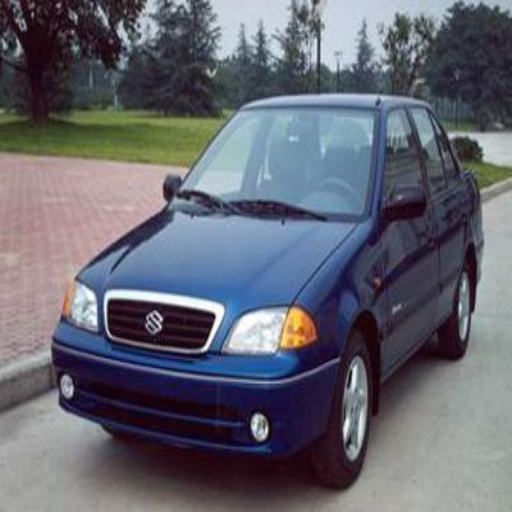front_bumper: (57, 291, 338, 461)
front_glass: (176, 107, 380, 221)
front_left_door: (381, 106, 437, 362)
front_right_light: (63, 279, 99, 333)
